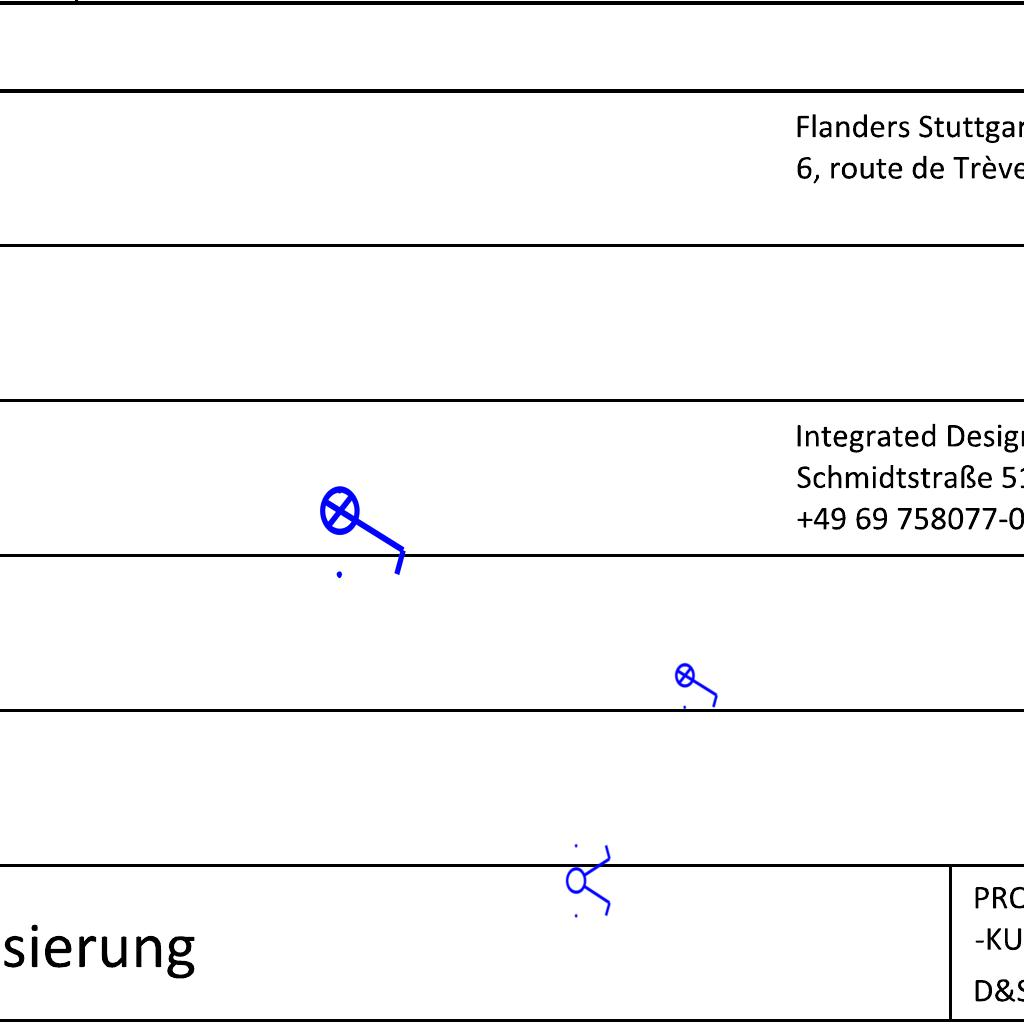Ausschalter_beleuchtet: (318, 472, 414, 584), (674, 656, 722, 712)
Serienschalter: (565, 838, 613, 922)
